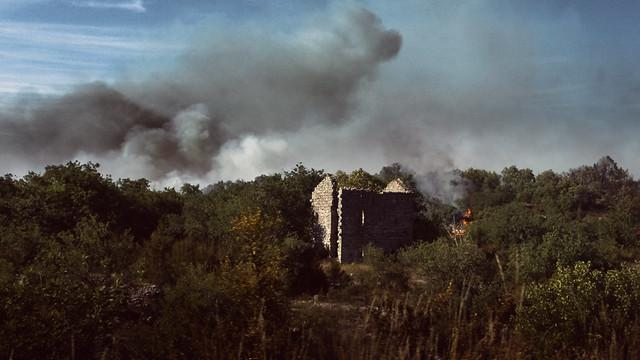fire: (440, 201, 487, 241)
